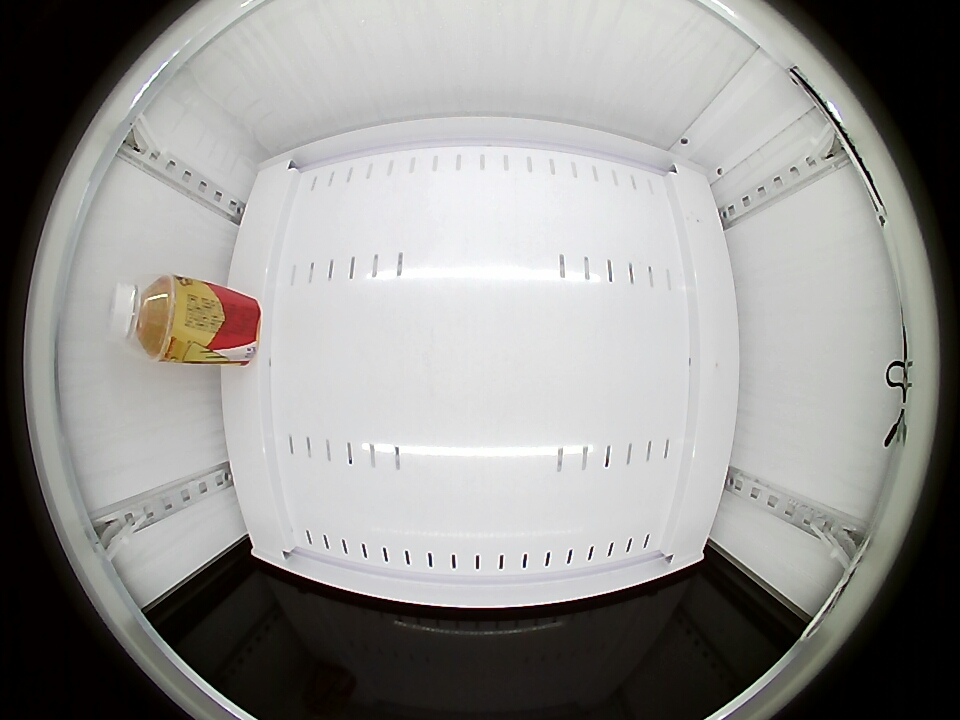dongpeng-b: (108, 273, 188, 361)
